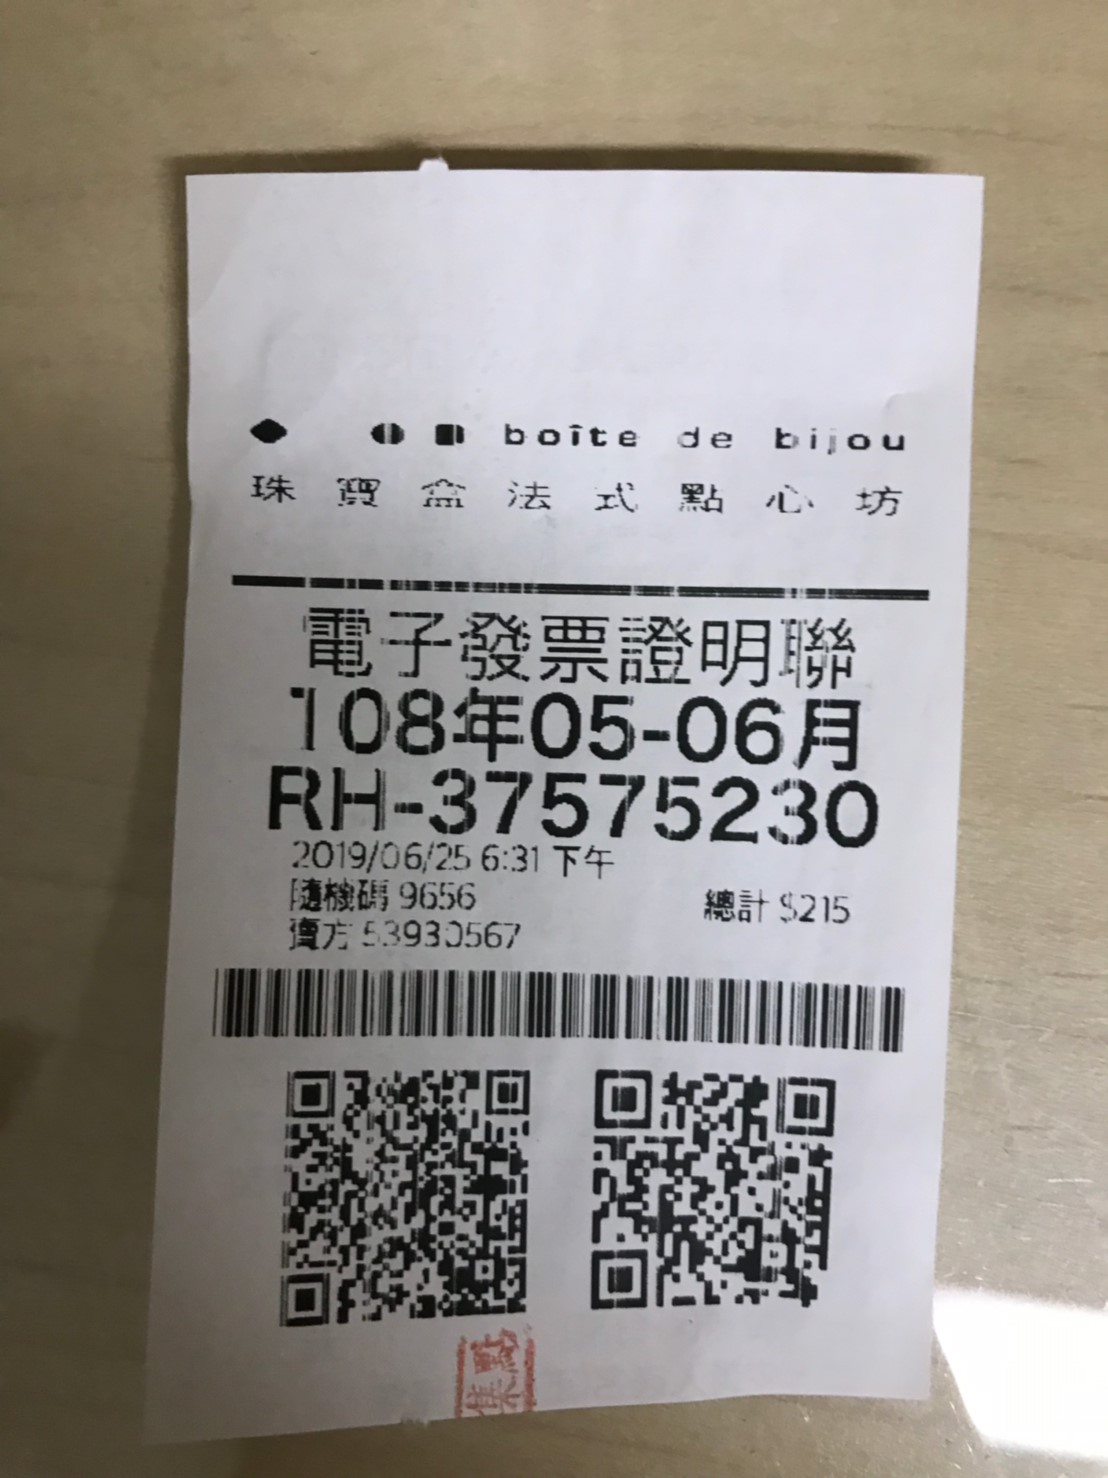Date_New: (283, 684, 864, 777)
Number_New: (428, 765, 882, 853)
